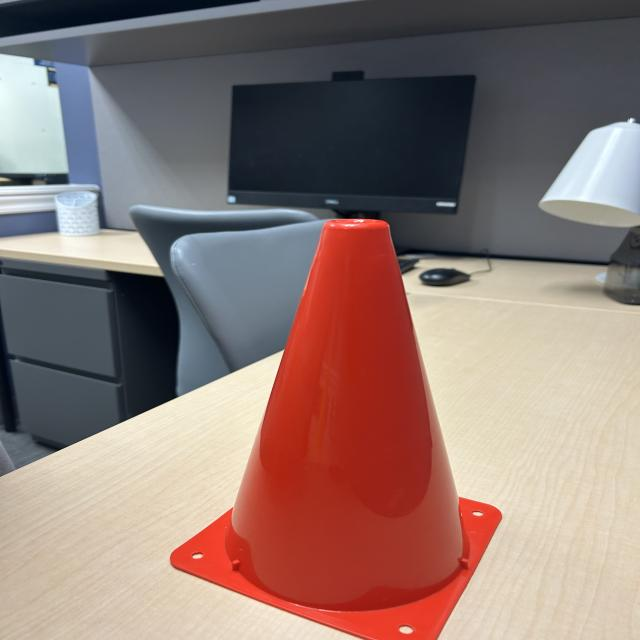orange cone: (160, 214, 509, 640)
